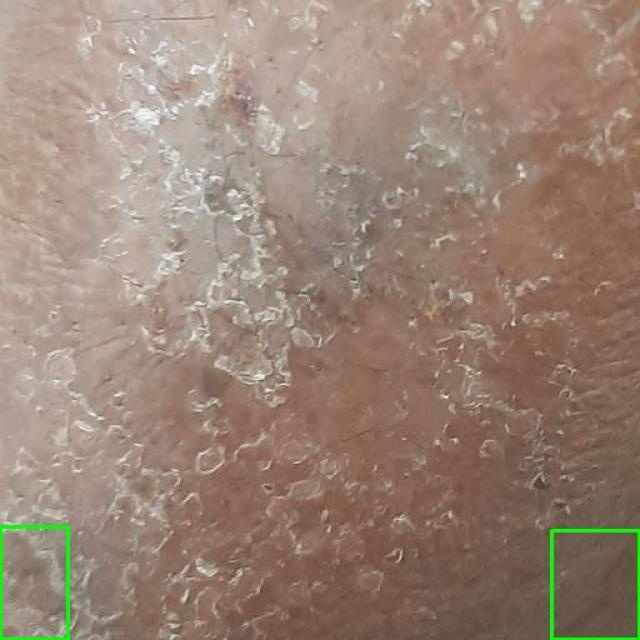Eczema: (551, 530, 639, 639), (0, 526, 69, 639)
